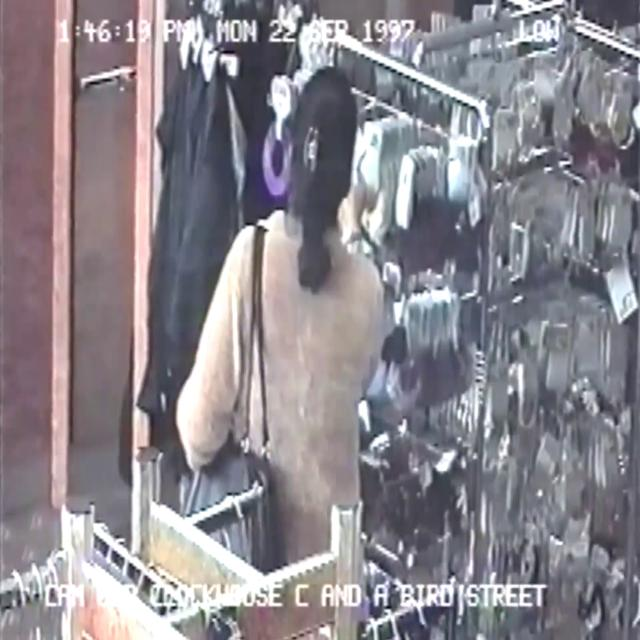Product: (346, 148, 392, 210)
shoplifting: (155, 0, 410, 633)
